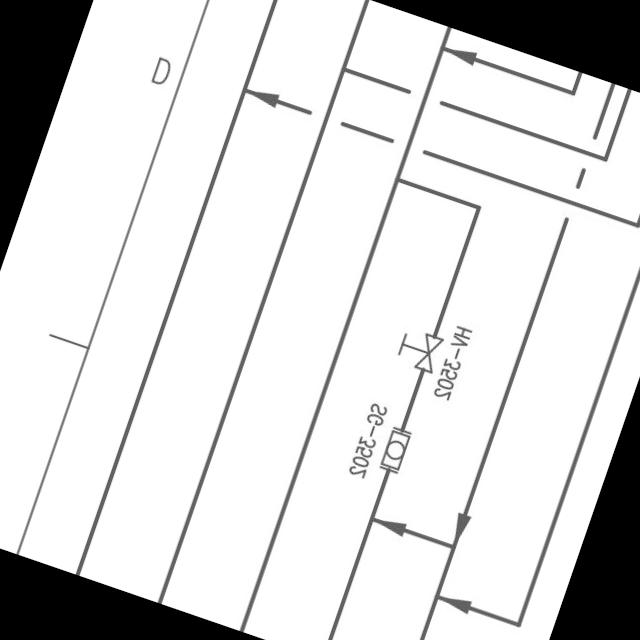HV: (388, 321, 446, 377)
SG: (375, 421, 415, 476)
